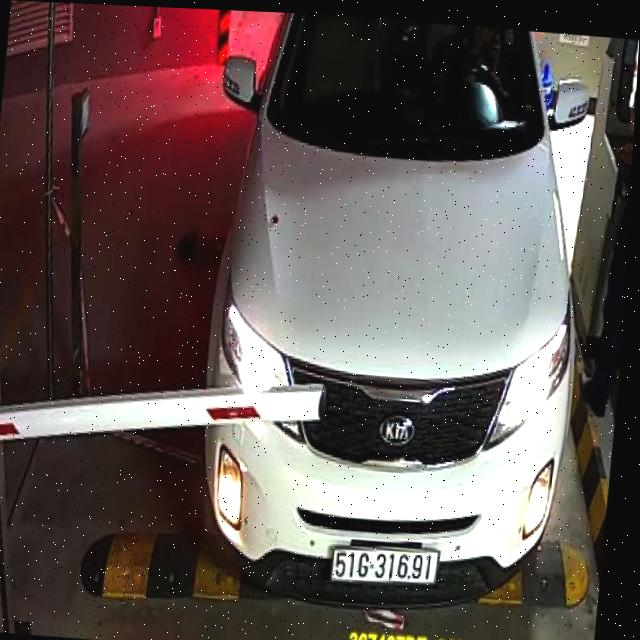car: (167, 9, 610, 633)
plate: (325, 540, 442, 590)
